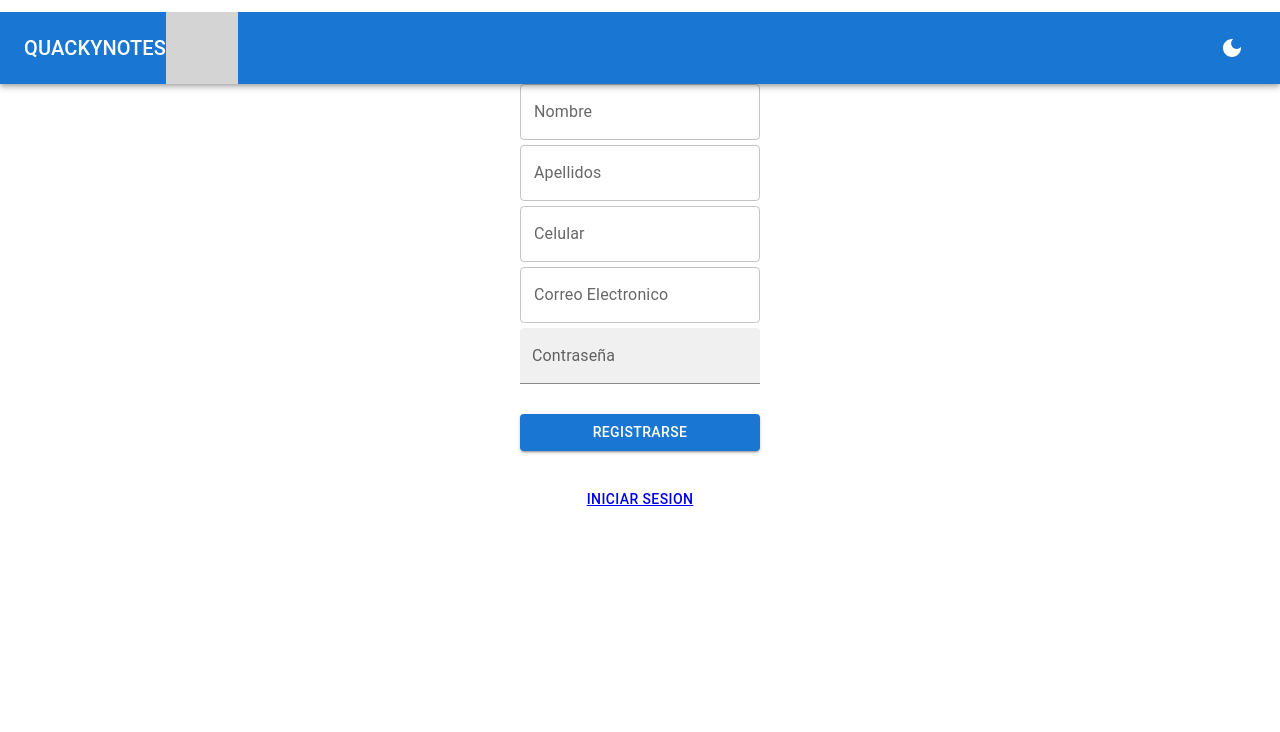
Test: Register component › should display an error message for empty last names
Type "John" into the field labelled "Nombre" at (640, 112), box [520,84,760,140]
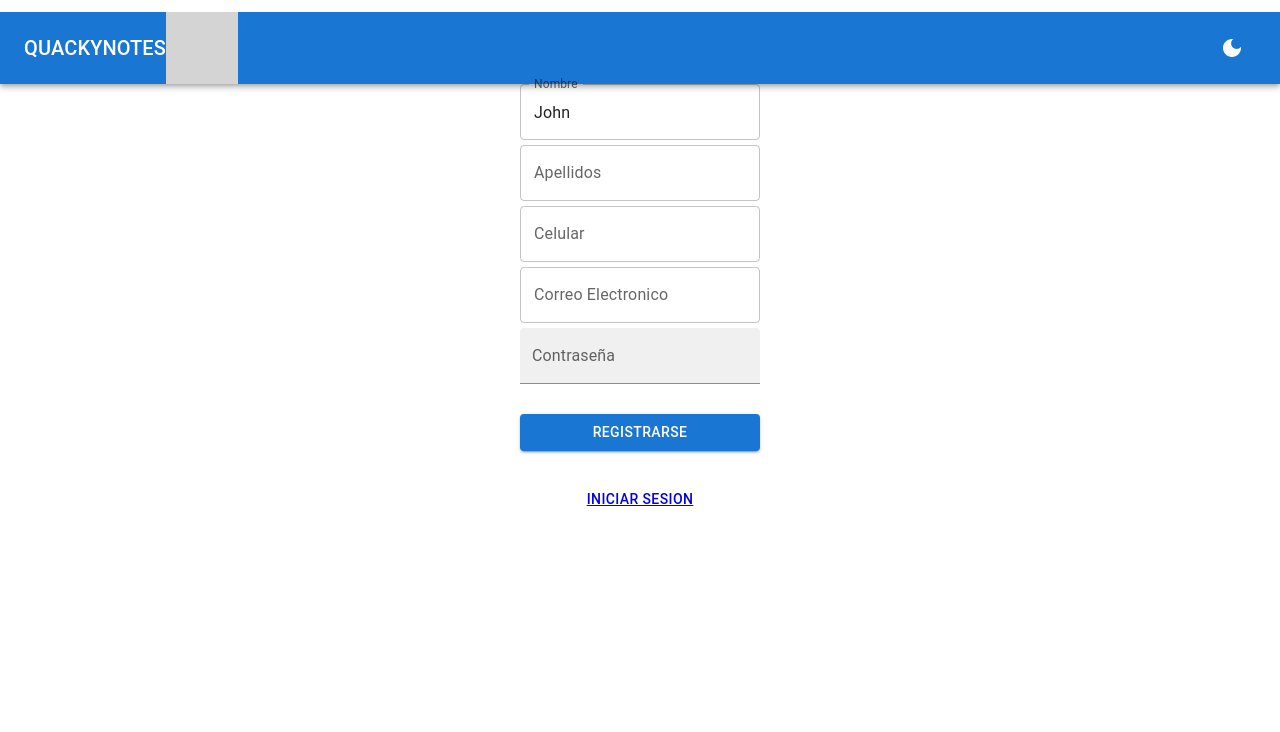
Type "1234567890" into the field labelled "Celular" at (640, 234), box [520,206,760,262]
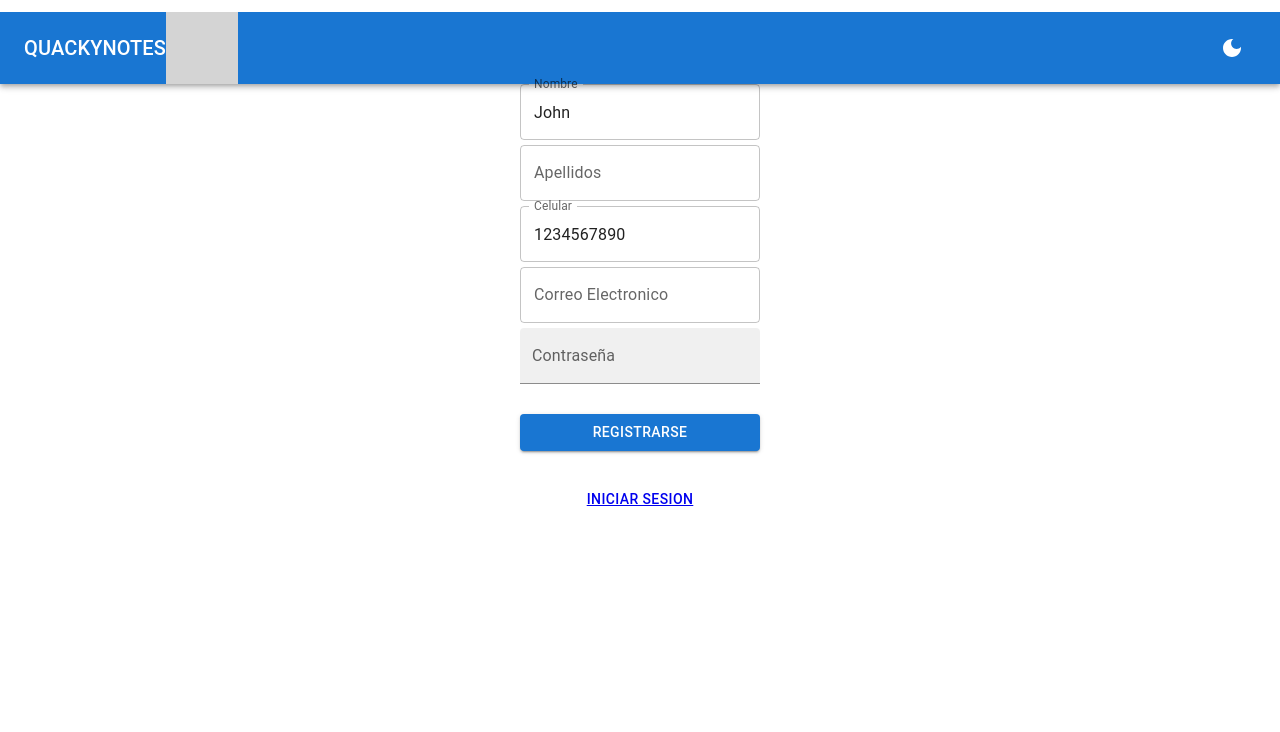
Type "email@example.com" into the field labelled "Correo Electronico" at (640, 295), box [520,267,760,323]
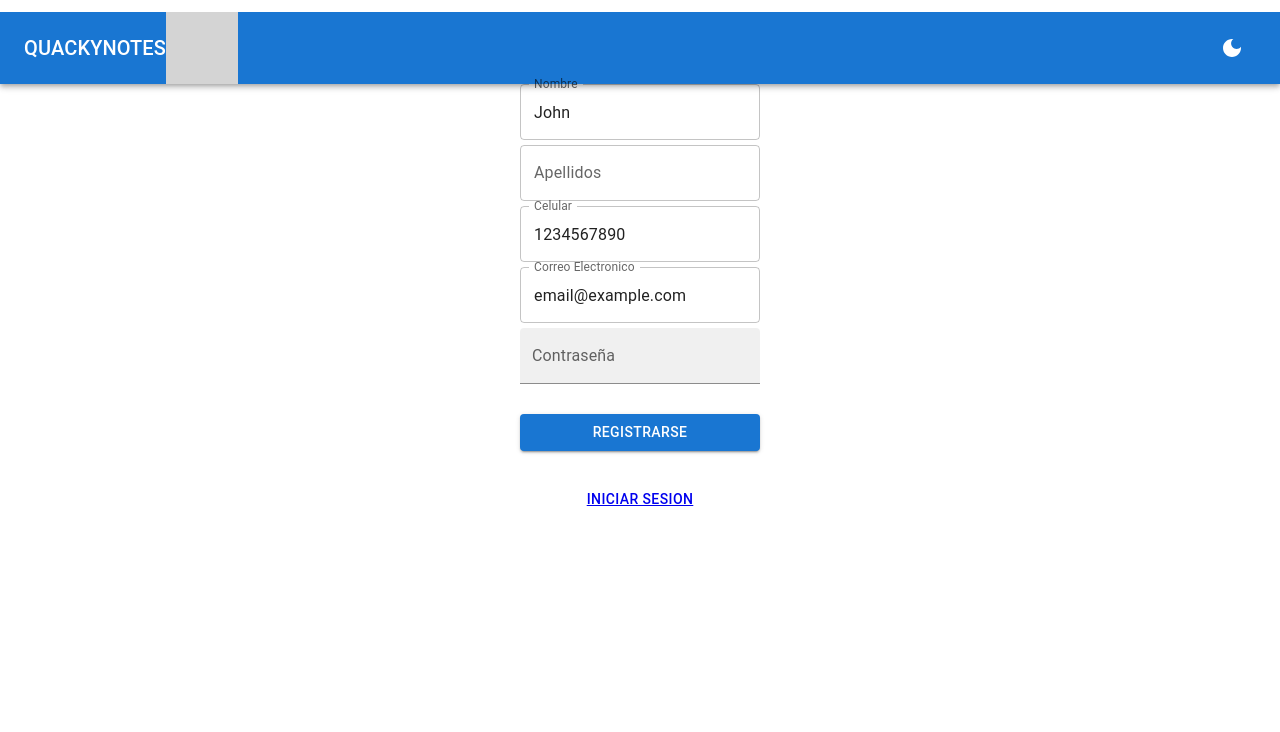
Type "Password123!" into the password field labelled "Contraseña" at (640, 356), box [520,328,760,384]
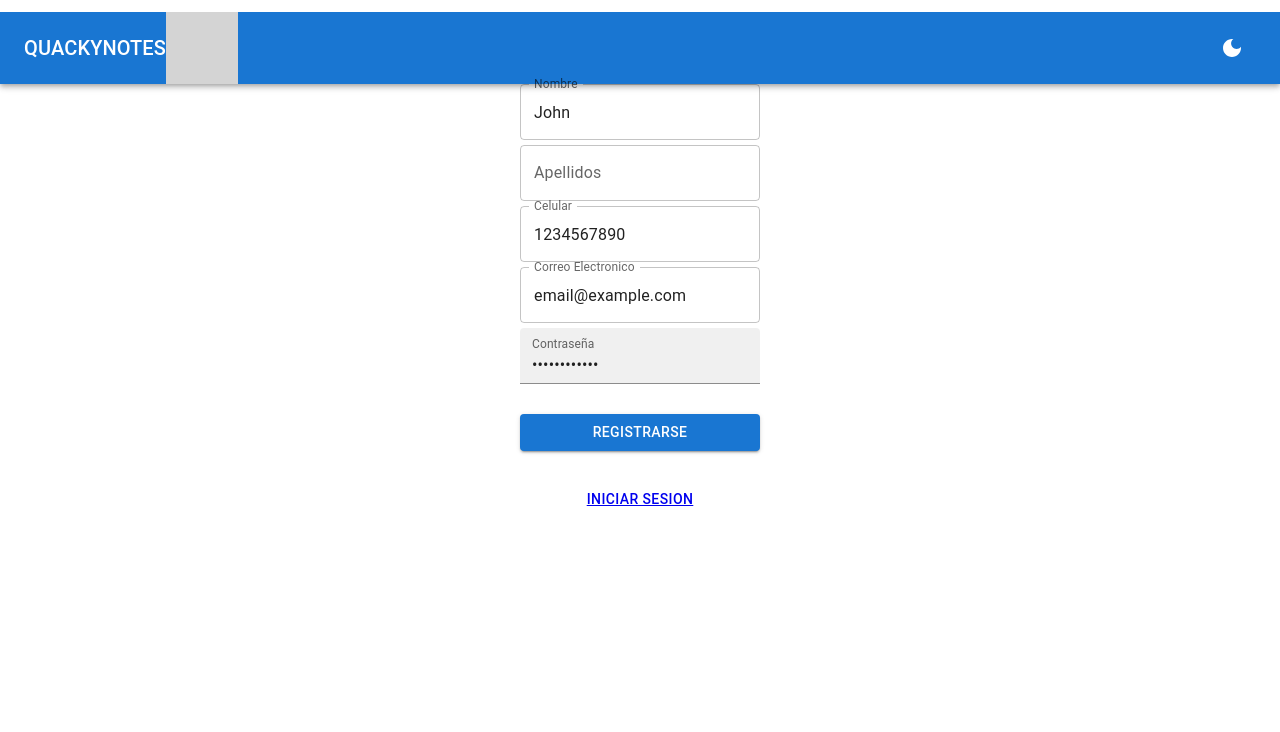
Click the button "REGISTRARSE" at (640, 432), box [520,414,760,450]
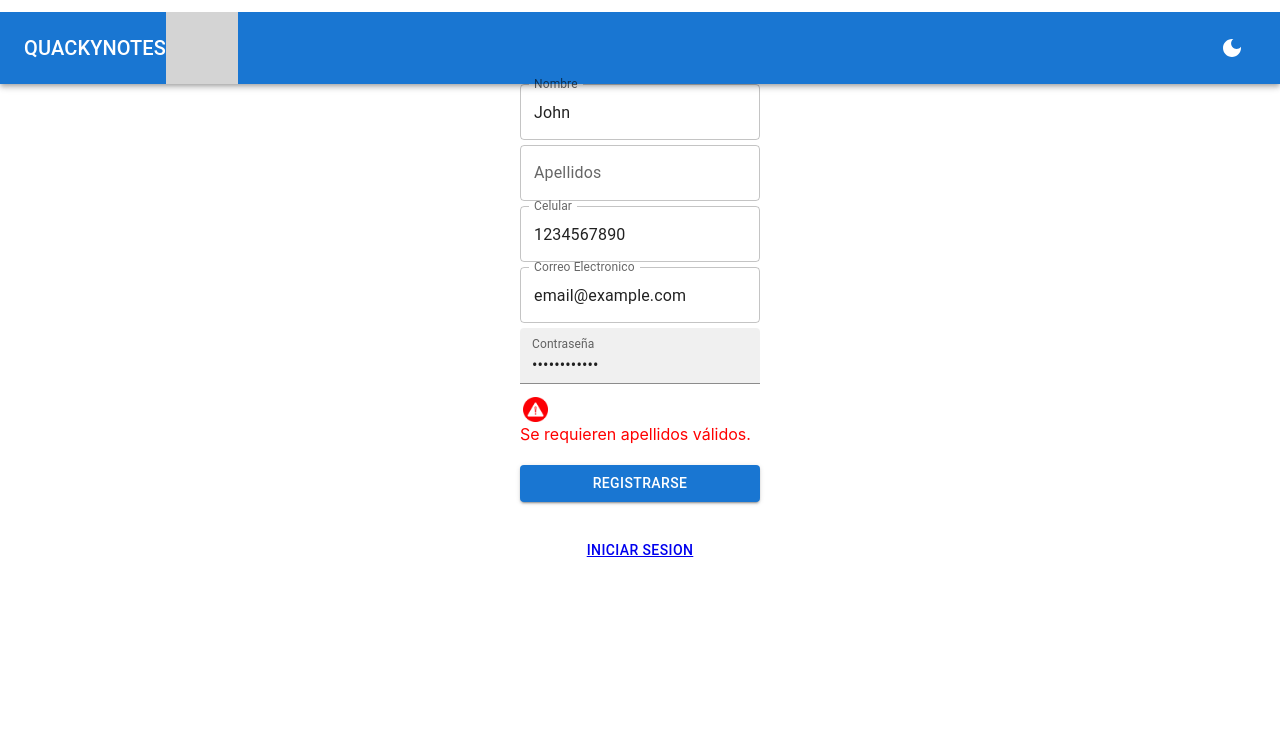
Check: the text "Se requieren apellidos válidos." is shown, box [520,424,760,444]
